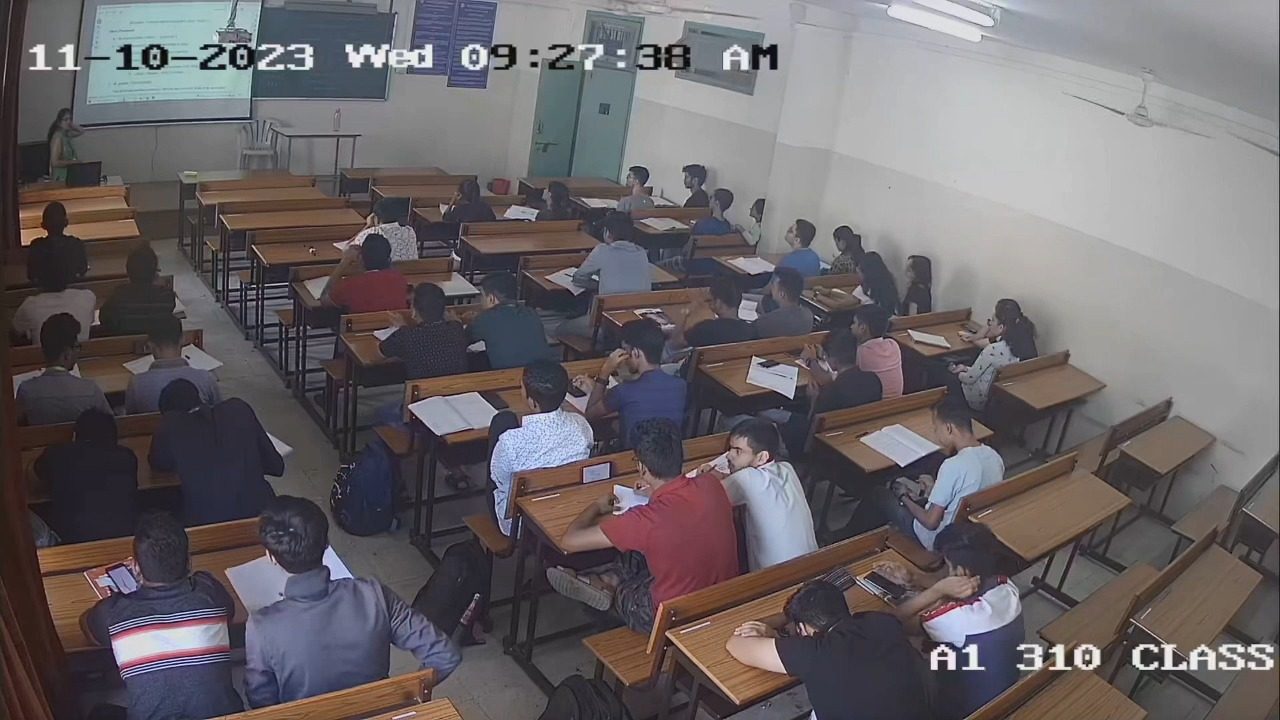cell-phones: (861, 567, 907, 600), (104, 561, 142, 596), (577, 460, 616, 485), (474, 389, 515, 411), (892, 476, 926, 498), (562, 378, 585, 402), (759, 355, 778, 371)
person: (561, 420, 737, 600), (87, 519, 245, 718), (912, 520, 1028, 681), (886, 393, 1004, 546), (485, 366, 594, 529), (769, 330, 884, 439), (585, 321, 688, 437)
